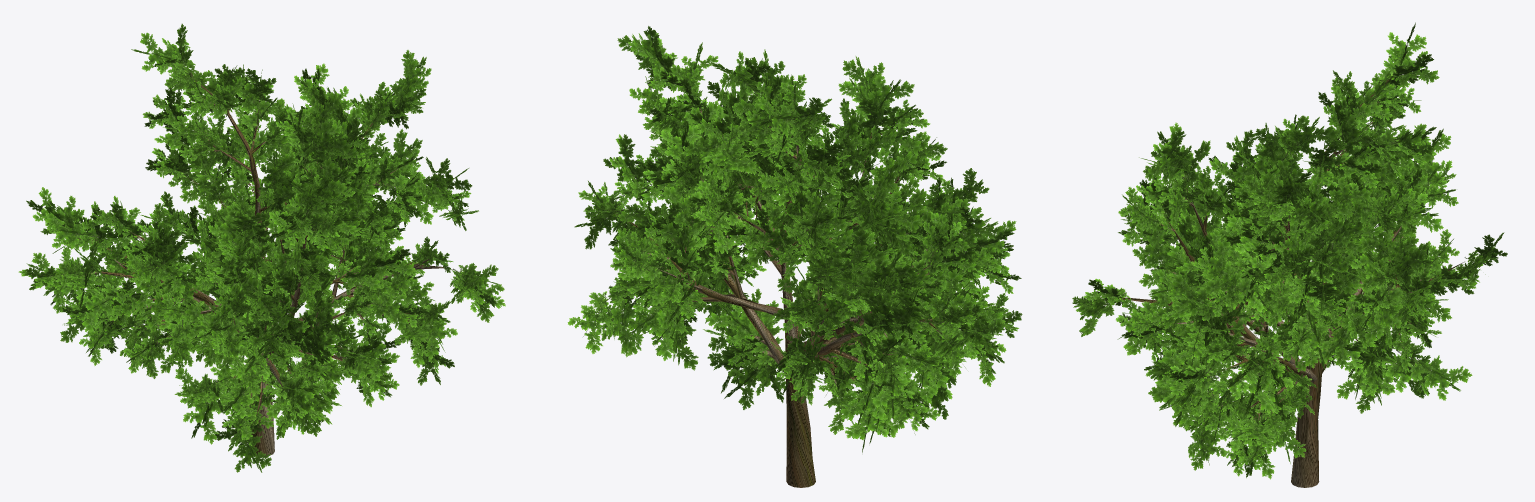
File: shade-a-far.glb
3 renders of one model, left to right at view 1: azimuth 30°, elevation 25°; view 2: azimuth 150°, elevation 25°; view 3: azimuth 270°, elevation 25°, orthographic. The views are drawn at different scales.
Visible parts, largest first — view 1: leaves, bark; view 2: leaves, bark; view 3: leaves, bark.
Boxes of the visible parts, x1,y1,x2,y2 form: leaves: [18, 23, 505, 472]; bark: [78, 70, 452, 455]; leaves: [567, 26, 1022, 452]; bark: [615, 108, 949, 487]; leaves: [1072, 22, 1507, 479]; bark: [1115, 78, 1464, 487].
Bounding box in the file's own units: 1.08 × 1.03 × 0.9887.
2 materials, 2 textured.
